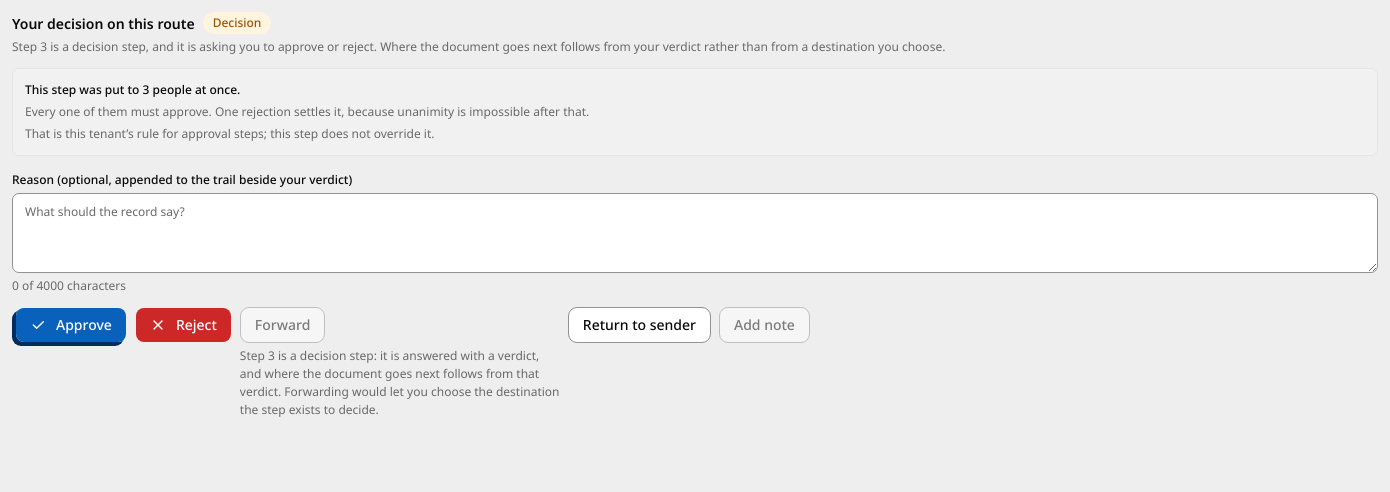
Test case: three approvers under a quorum of `all` › tints the settling approval as a success, and says so once
Click the button "Approve".
click(71, 325)  # box [15, 307, 127, 343]
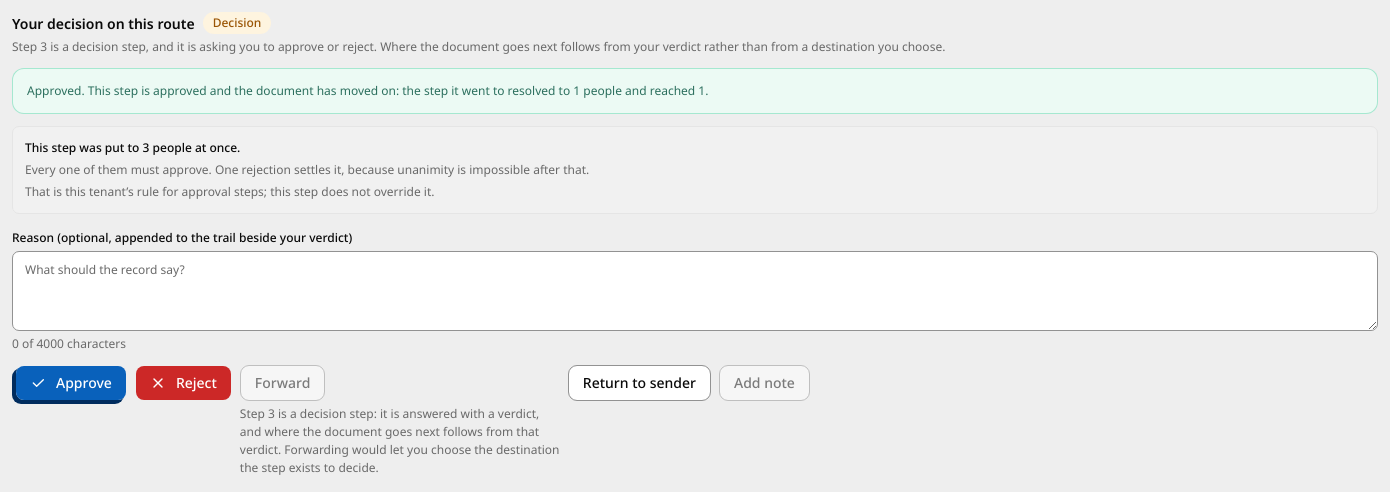
Expected: the message is shown, [12, 68, 1378, 114]
